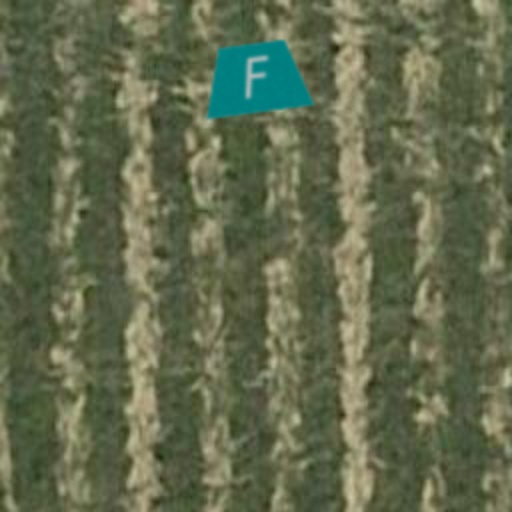trapezoid: (194, 16, 318, 140)
